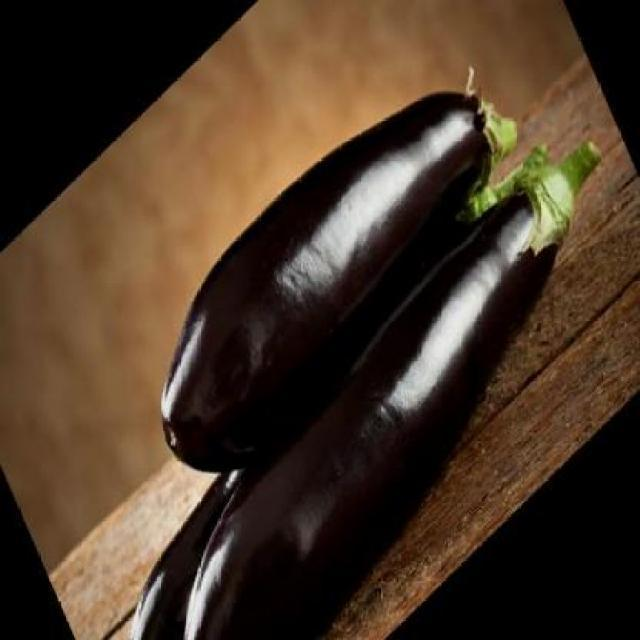eggplant: (126, 116, 640, 638), (113, 116, 602, 638), (158, 65, 525, 518)
